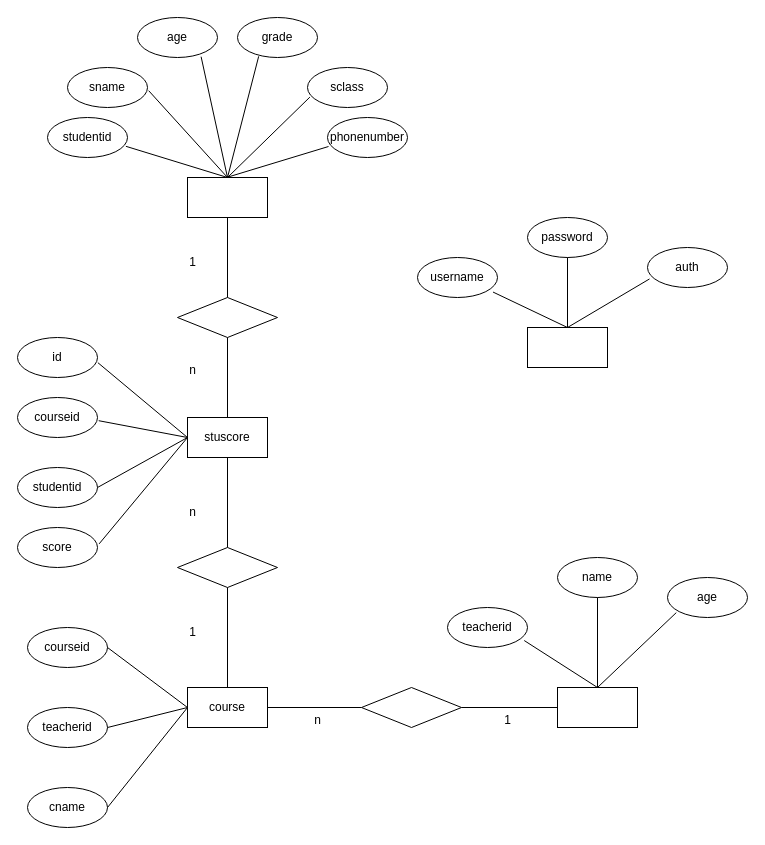
Image size: 765x845. Some labels were removed from this diagram. Each missing label, with the centre of its shape:
"student" belongs at (x=227, y=197).
"teacher" belongs at (x=597, y=707).
"user" belongs at (x=567, y=347).
"包含" belongs at (x=227, y=567).
"拥有" belongs at (x=227, y=317).
"教授" belongs at (x=411, y=707).
